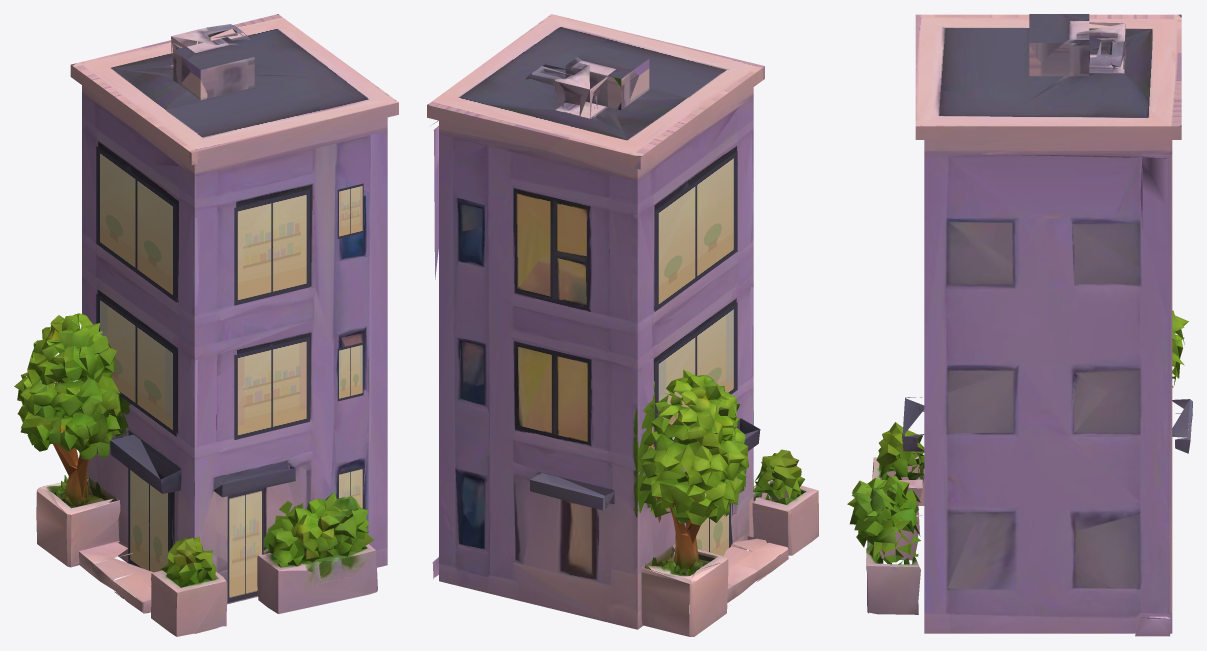
File: m11_02_office_r90.glb
3 renders of one model, left to right at view 1: azimuth 30°, elevation 25°; view 2: azimuth 150°, elevation 25°; view 3: azimuth 270°, elevation 25°, orthographic. The views are drawn at different scales.
Parts seen in each view (by area): view 1: shell, office_detail; view 2: shell, office_detail; view 3: shell, office_detail.
Part boxes in pixels (x1,y1,x2,y2): shell: (70, 14, 398, 604); office_detail: (14, 24, 377, 636); shell: (427, 14, 764, 629); office_detail: (431, 64, 818, 636); shell: (915, 14, 1181, 633); office_detail: (847, 22, 1192, 636).
Size of the model in its own units: 8.5 by 14.02 by 8.06.
Materials: 4 (4 with a texture image).
